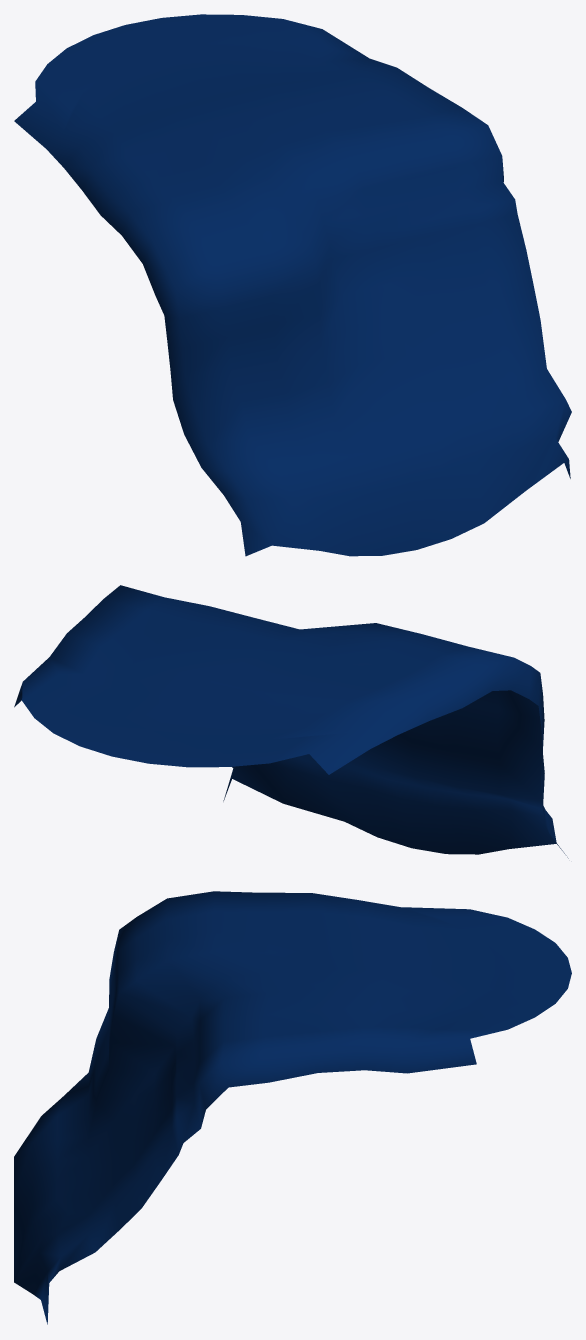
File: Cascade2_hp.fbx
3 renders of one model, top to bottom at view 1: azimuth 30°, elevation 25°; view 2: azimuth 150°, elevation 25°; view 3: azimuth 270°, elevation 25°, orthographic. The views are drawn at different scales.
Parts seen in each view (by area): view 1: Cascade; view 2: Cascade; view 3: Cascade.
Part boxes in pixels (x1,y1,x2,y2): Cascade: (14, 14, 571, 556); Cascade: (14, 585, 568, 858); Cascade: (14, 891, 571, 1324).
Bounding box in the file's own units: 13.95 × 10.91 × 18.84.
